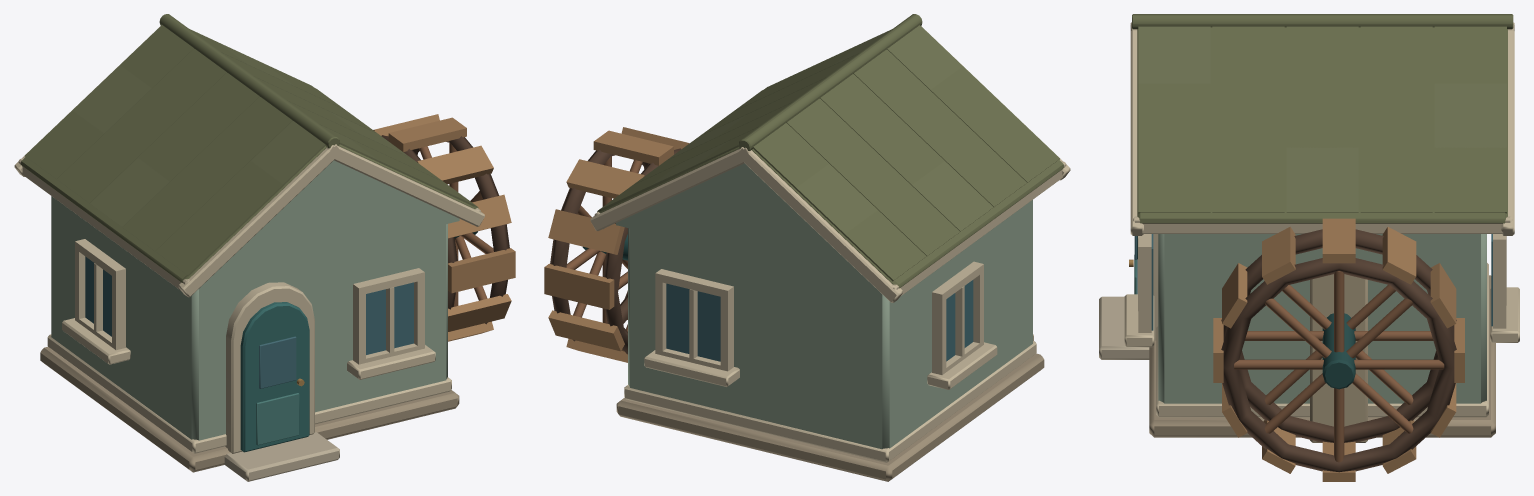
File: watermill_level_1.glb
3 views of the same model, side by side, from view 1: azimuth 30°, elevation 25°; view 2: azimuth 150°, elevation 25°; view 3: azimuth 270°, elevation 25° (orthographic). The views are drawn at different scales.
Parts seen in each view (by area): view 1: watermill_level_1_runtime; view 2: watermill_level_1_runtime; view 3: watermill_level_1_runtime.
Part boxes in pixels (x1=…): watermill_level_1_runtime: x1=14, y1=14, x2=515, y2=481; watermill_level_1_runtime: x1=544, y1=14, x2=1070, y2=481; watermill_level_1_runtime: x1=1099, y1=14, x2=1519, y2=481.
Bounding box in the file's own units: 4.56 × 3.53 × 3.84.
